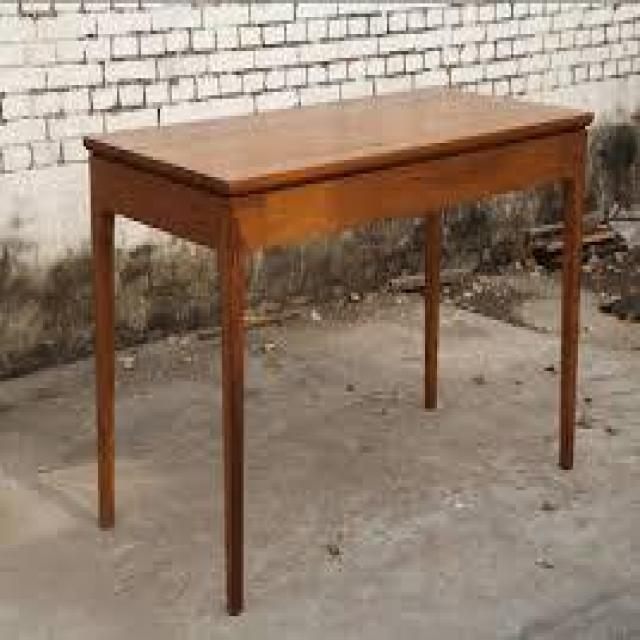mobile-phone: (79, 84, 590, 618)
